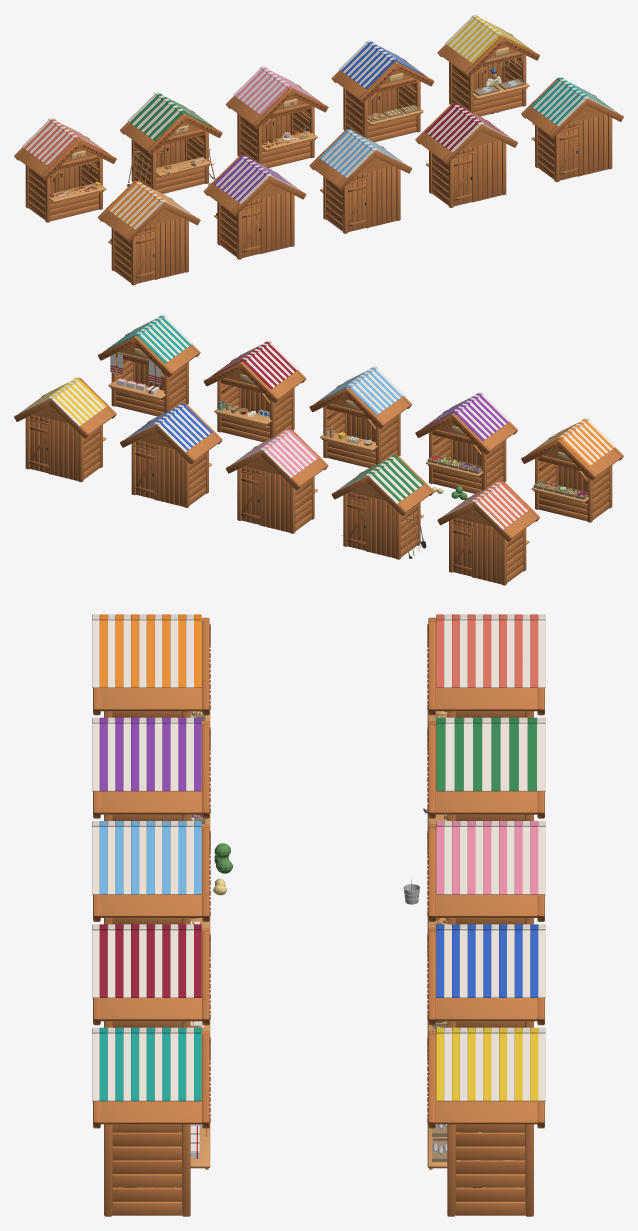
Rendered from bz_stalls.glb.
3 renders of one model, top to bottom at view 1: azimuth 30°, elevation 25°; view 2: azimuth 150°, elevation 25°; view 3: azimuth 270°, elevation 25°, orthographic. The views are drawn at different scales.
Visible parts, largest first — view 1: Ларьок, Ларьок_Інструменти, Ларьок_Солодощі, Ларьок_09, Ларьок_10, Ларьок_08, Ларьок_07, Ларьок_06, Ларьок_04, Ларьок_05, Ларьок_10_Двері, Ларьок_09_Двері (+7 smaller); view 2: Ларьок_08, Ларьок_09, Ларьок_06, Ларьок_07, Ларьок_05, Ларьок_10, Ларьок_04, Ларьок_Солодощі, Ларьок, Ларьок_Інструменти, Ларьок_Інструменти_Двері, Ларьок_05_Двері (+4 smaller); view 3: Ларьок_10, Ларьок_05, Ларьок_Інструменти, Ларьок_08, Ларьок_Солодощі, Ларьок, Ларьок_09, Ларьок_04, Ларьок_06, Ларьок_07.
Boxes of the visible parts, x1,y1,x2,y2 form: Ларьок: [14, 117, 116, 222]; Ларьок_Інструменти: [120, 92, 222, 193]; Ларьок_Солодощі: [225, 66, 328, 167]; Ларьок_09: [415, 103, 517, 207]; Ларьок_10: [521, 77, 623, 182]; Ларьок_08: [309, 129, 412, 233]; Ларьок_07: [203, 155, 306, 259]; Ларьок_06: [98, 181, 200, 285]; Ларьок_04: [331, 40, 434, 142]; Ларьок_05: [437, 14, 539, 116]; Ларьок_10_Двері: [559, 128, 578, 180]; Ларьок_09_Двері: [453, 154, 472, 206]; Ларьок_08: [309, 366, 412, 467]; Ларьок_09: [203, 340, 306, 442]; Ларьок_06: [521, 417, 623, 522]; Ларьок_07: [415, 392, 517, 493]; Ларьок_05: [14, 377, 116, 482]; Ларьок_10: [98, 314, 200, 416]; Ларьок_04: [120, 403, 222, 507]; Ларьок_Солодощі: [225, 429, 328, 533]; Ларьок: [437, 481, 539, 585]; Ларьок_Інструменти: [331, 455, 434, 559]; Ларьок_Інструменти_Двері: [347, 498, 366, 550]; Ларьок_05_Двері: [29, 421, 48, 473]; Ларьок_10: [92, 1027, 210, 1216]; Ларьок_05: [427, 1027, 545, 1216]; Ларьок_Інструменти: [427, 717, 545, 855]; Ларьок_08: [92, 821, 210, 958]; Ларьок_Солодощі: [427, 821, 545, 958]; Ларьок: [427, 614, 545, 751]; Ларьок_09: [92, 924, 210, 1061]; Ларьок_04: [427, 924, 545, 1061]; Ларьок_06: [92, 614, 210, 751]; Ларьок_07: [92, 717, 210, 855].
Bounding box in the file's own units: 21.16 × 3.48 × 8.36.
